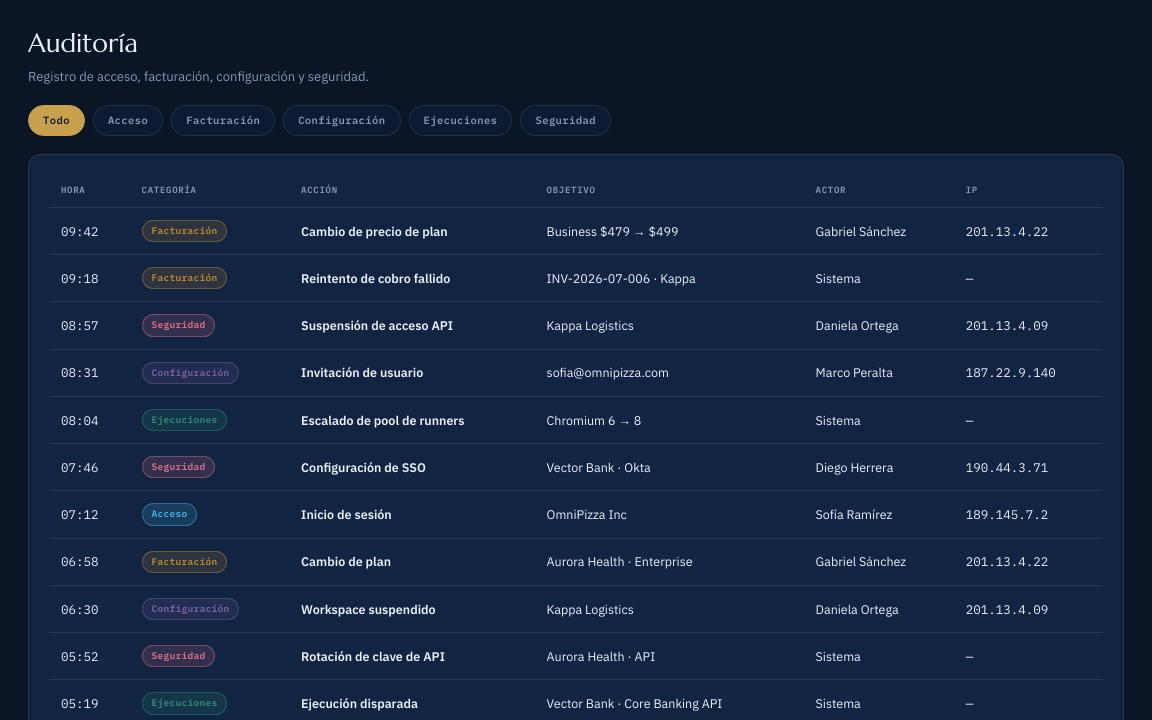
Test: platform · Auditoría › restores the full log when "Todo" is re-selected
Click the button "Seguridad" at (566, 120), box [520,104,611,136]
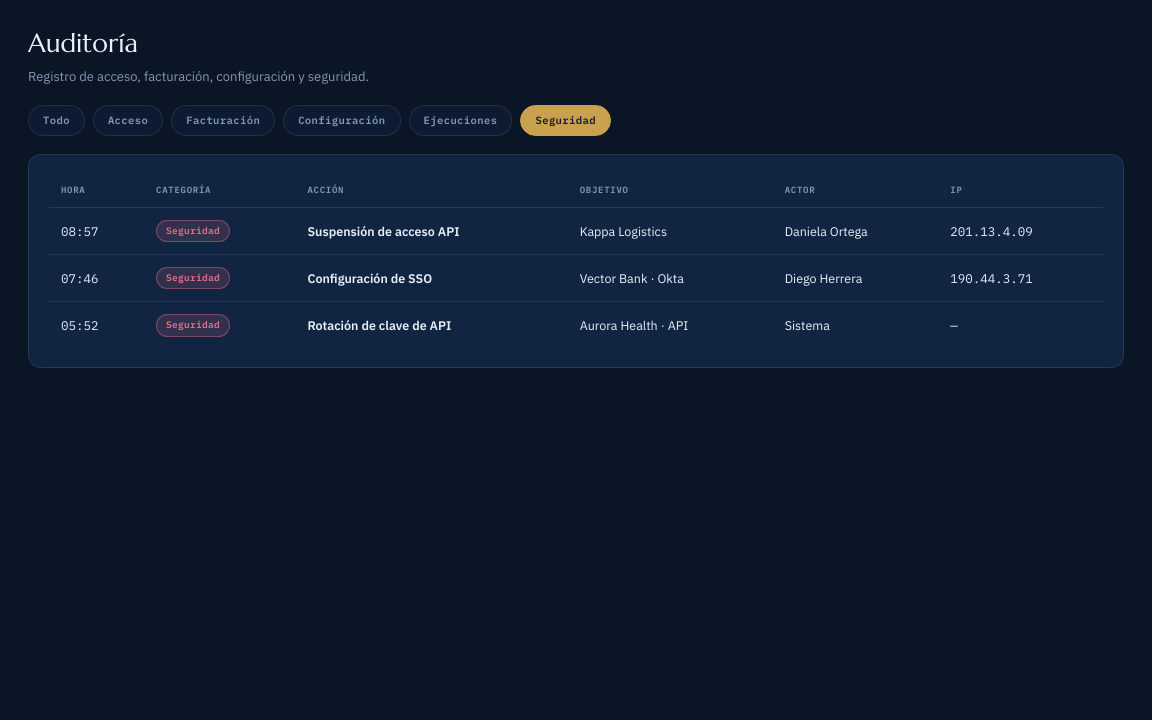
Expected: the text "Vector Bank · Okta" is shown, [568,254,773,302]
Now the text "Business $479 → $499" is gone
Click the button "Todo" at (56, 120), box [28,104,85,136]
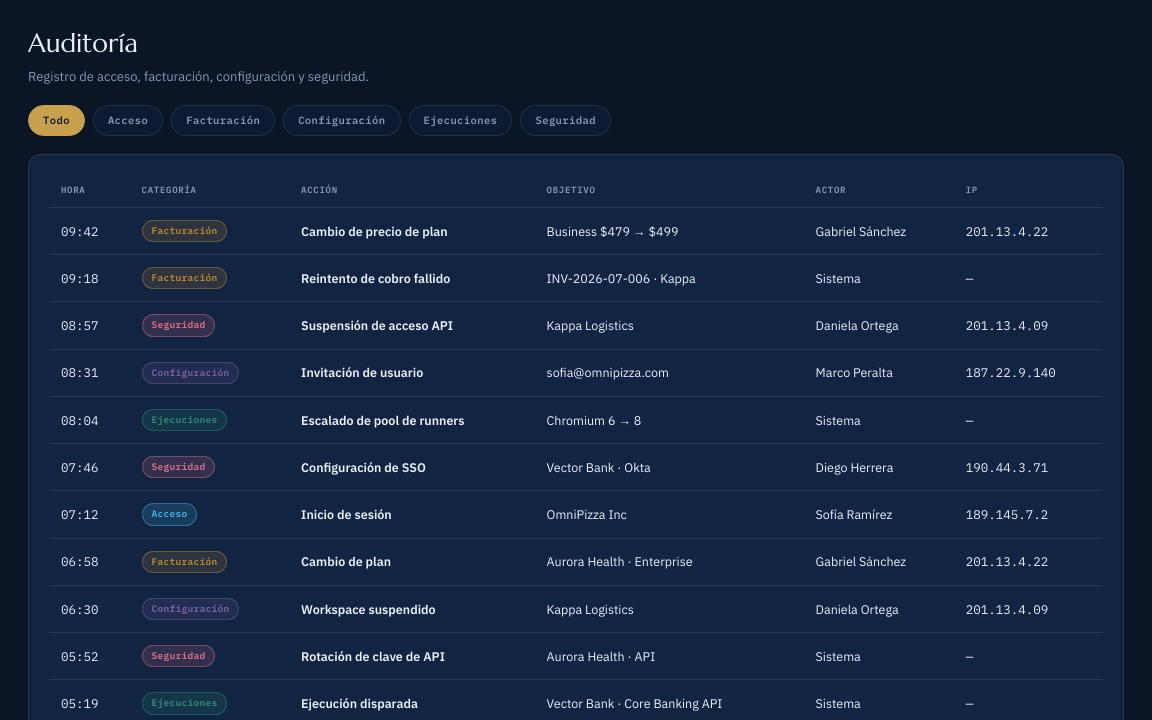
Expected: the text "Vector Bank · Okta" is shown, [535,444,804,491]
Now the text "Business $479 → $499" is shown, box [535,207,804,255]
